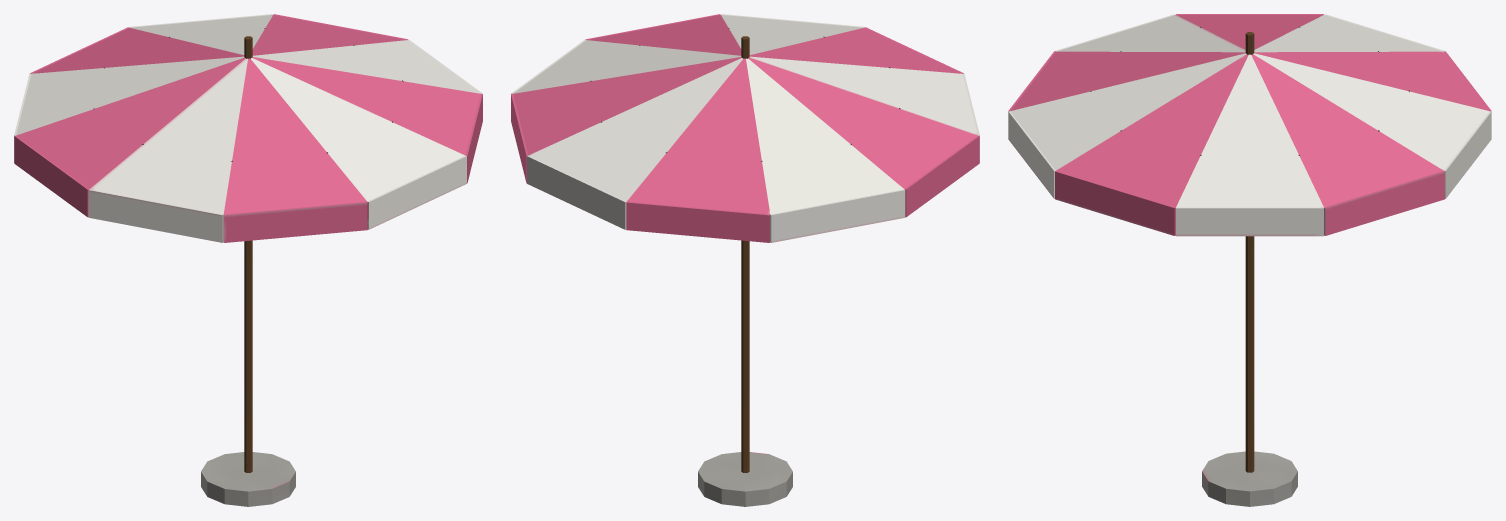
The model's file is slunecnik_a13ff92f.glb.
3 views of the same model, side by side, from view 1: azimuth 30°, elevation 25°; view 2: azimuth 150°, elevation 25°; view 3: azimuth 270°, elevation 25° (orthographic).
Visible parts, largest first — view 1: dum; view 2: dum; view 3: dum.
Part boxes in pixels (x1=…): dum: x1=14, y1=14, x2=482, y2=506; dum: x1=511, y1=14, x2=979, y2=506; dum: x1=1008, y1=14, x2=1491, y2=506.
Bounding box in the file's own units: 2.68 × 2.91 × 2.82.
Materials: 1 (1 with a texture image).
